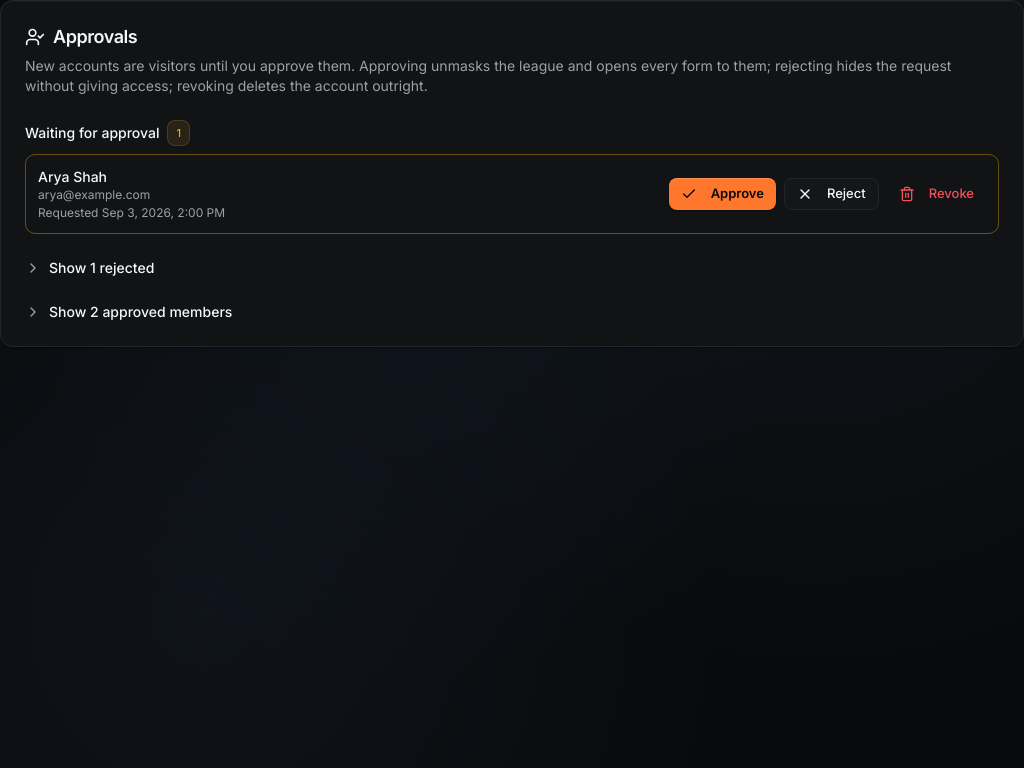
Test: MemberApprovalsManager › will not offer to revoke the admin themselves
Expected: the text "Arya Shah" is shown, [38,168,107,185]
Click the button "Show 2 approved members": (68,311) [25,302,999,322]
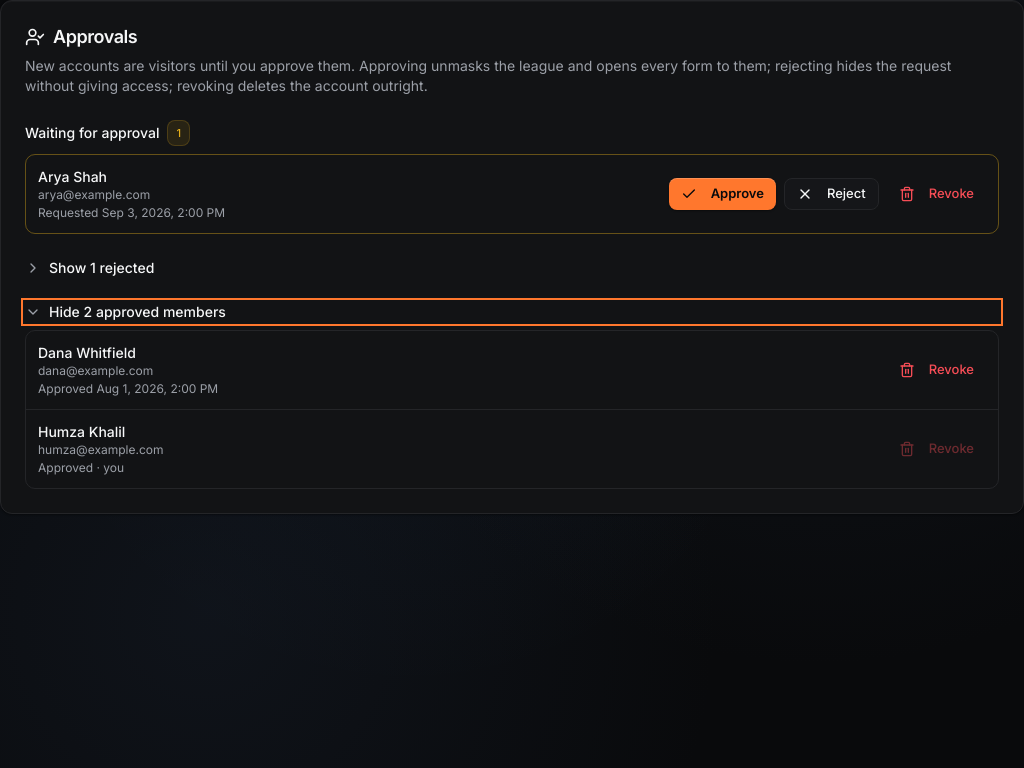
Result: the button with aria-label "revoke humza khalil" is disabled at [887,433,986,465]
Result: the button with aria-label "revoke dana whitfield" is enabled at [887,354,986,386]
